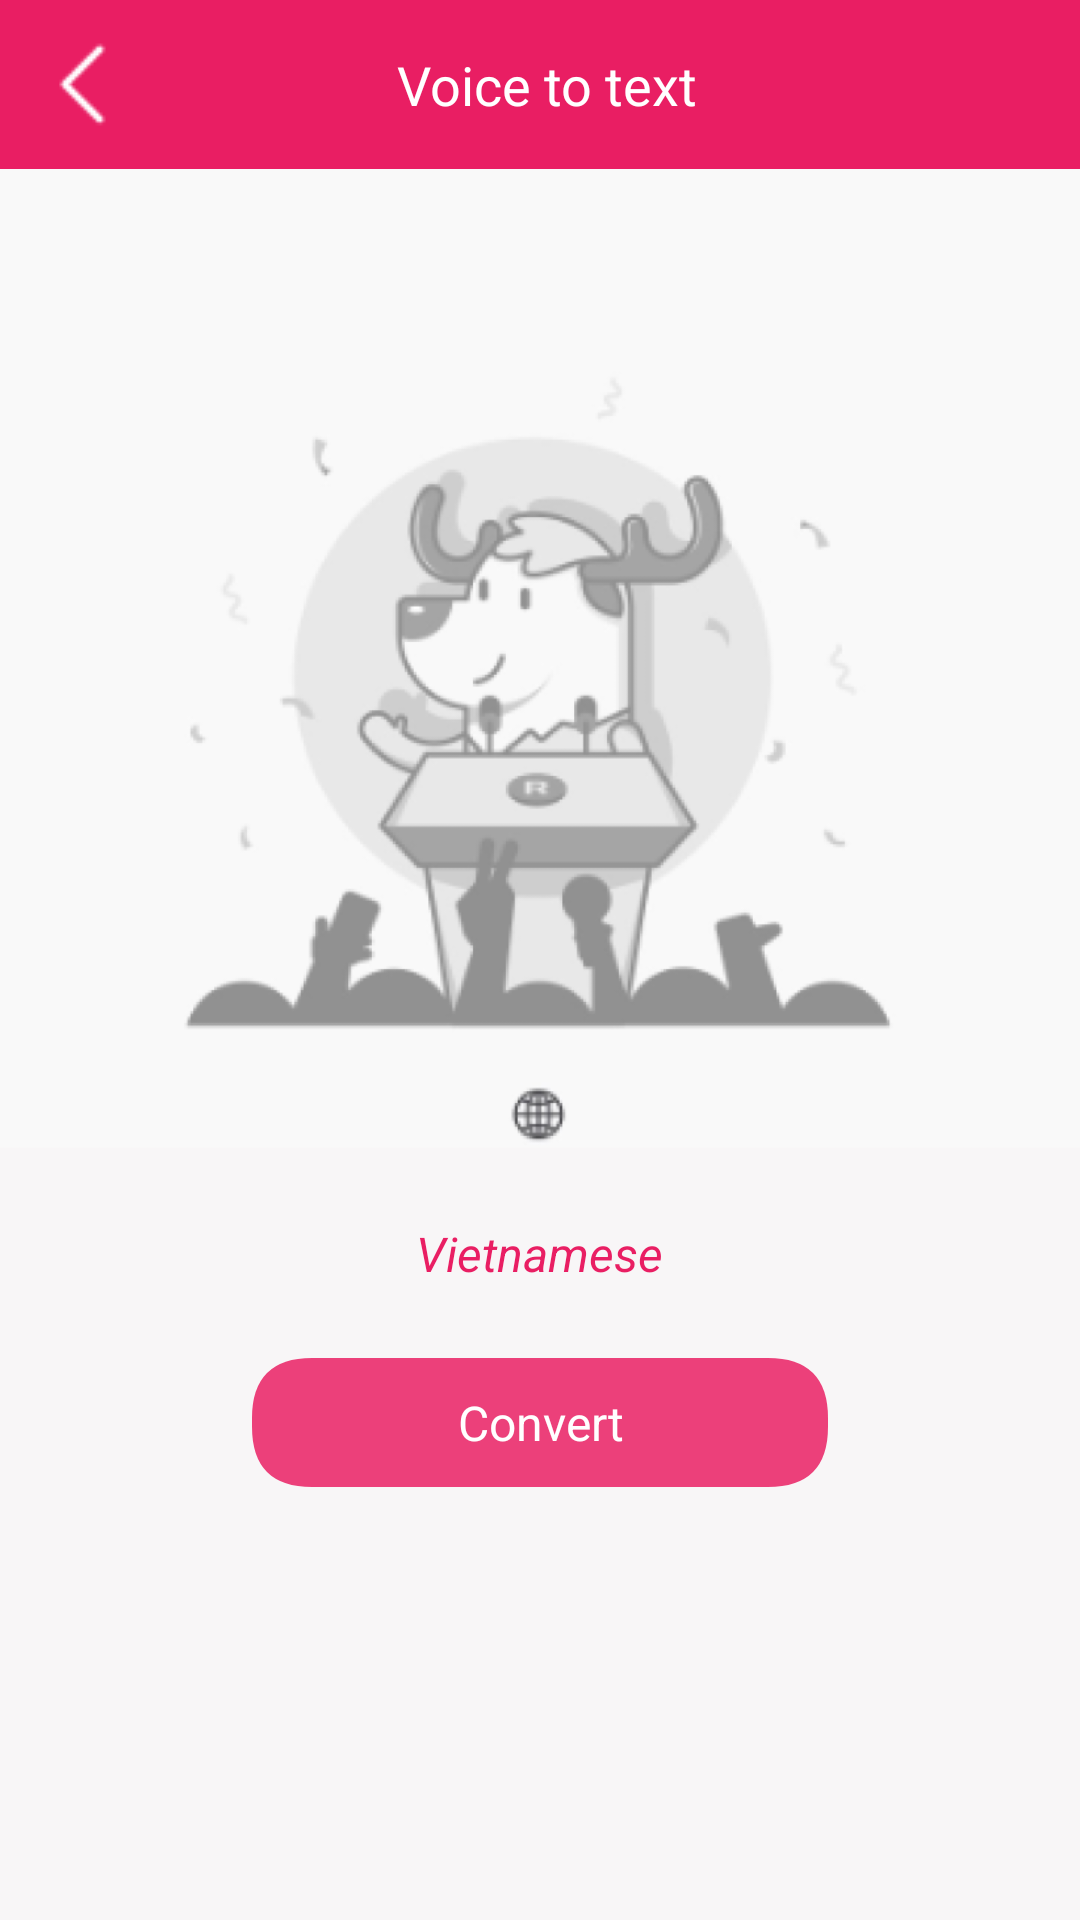

Where to tap for icons on this 1080*1920 app screen, as (x,y):
back: (82,84)
